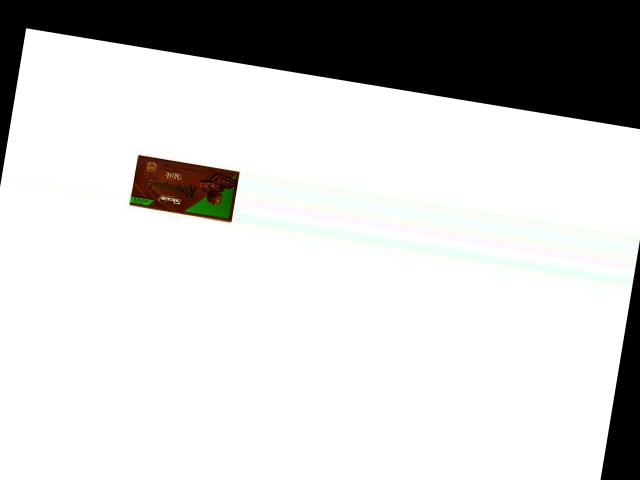chocolate: (125, 152, 241, 226)
